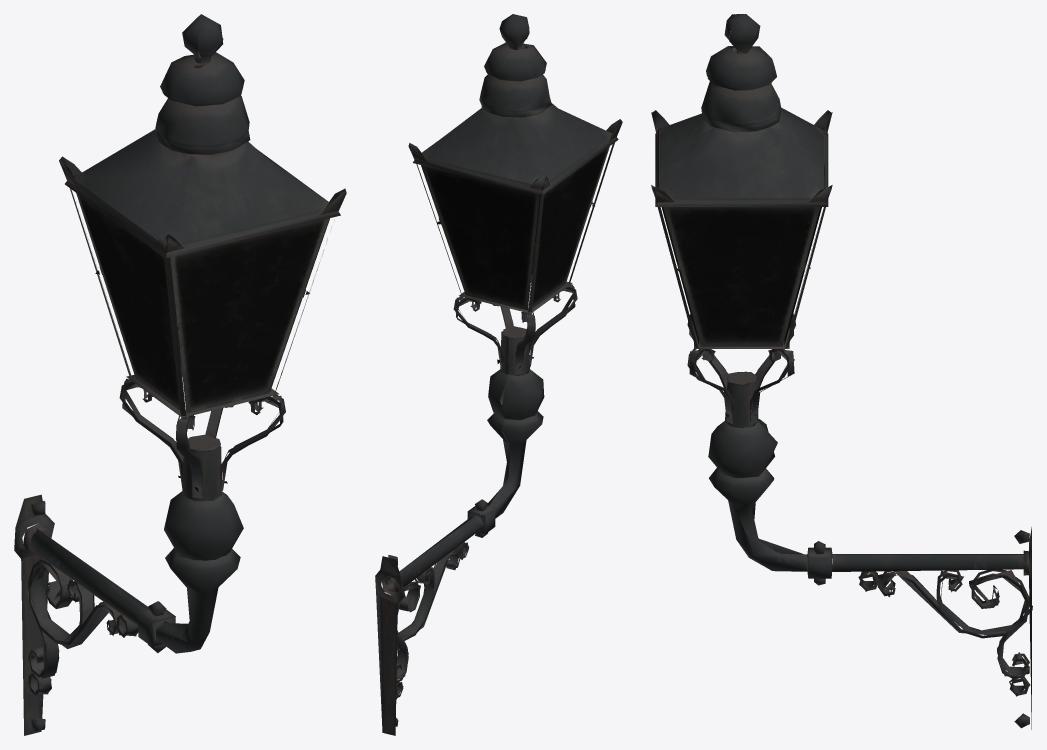
Rendered from street_lamp_02.glb.
3 views of the same model, side by side, from view 1: azimuth 30°, elevation 25°; view 2: azimuth 150°, elevation 25°; view 3: azimuth 270°, elevation 25° (orthographic). The views are drawn at different scales.
Visible parts, largest first — view 1: street_lamp_02; view 2: street_lamp_02; view 3: street_lamp_02.
Part boxes in pixels (box(x1,y1,x2,y2)): street_lamp_02: box(14, 14, 346, 735); street_lamp_02: box(375, 14, 622, 735); street_lamp_02: box(651, 14, 1032, 729).
Bounding box in the file's own units: 0.3839 × 1.68 × 0.8073.
Materials: 3 (3 with a texture image).
